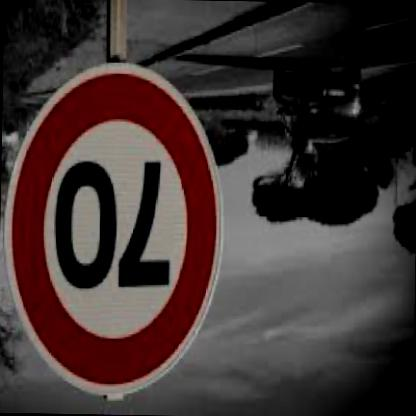speedlimit: (4, 65, 230, 399)
